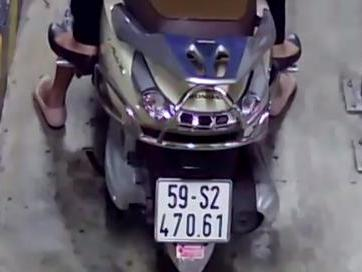num_plate: (156, 178, 232, 242)
